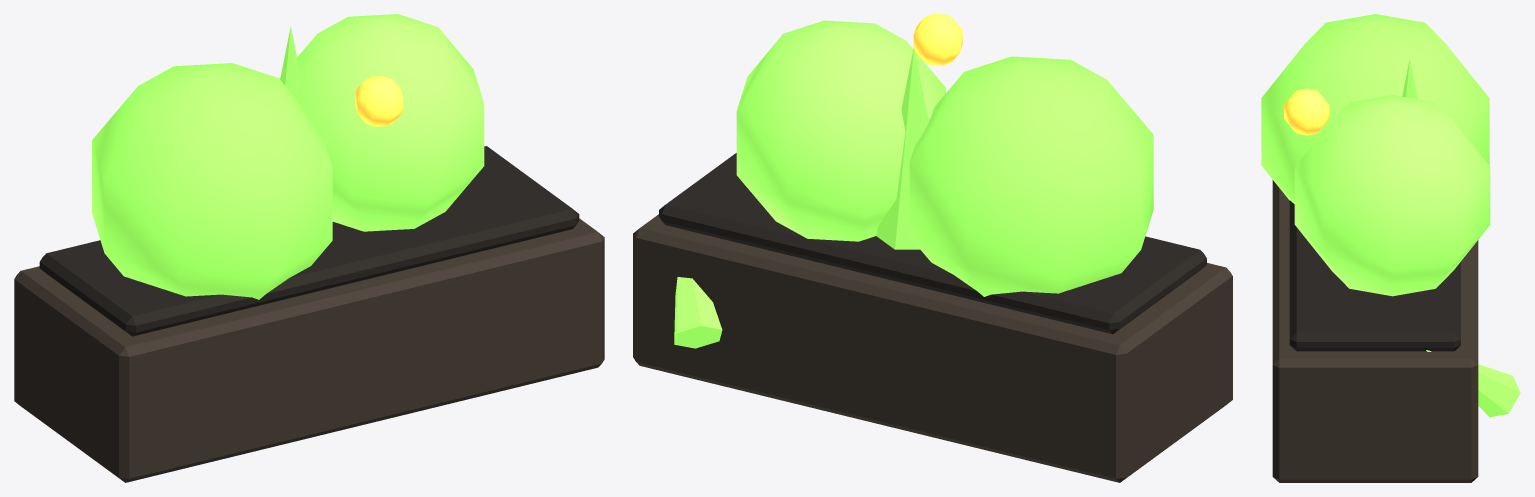
Rendered from vine_planter.glb.
3 views of the same model, side by side, from view 1: azimuth 30°, elevation 25°; view 2: azimuth 150°, elevation 25°; view 3: azimuth 270°, elevation 25° (orthographic). The views are drawn at different scales.
Visible parts, largest first — view 1: prop.vine_planter; view 2: prop.vine_planter; view 3: prop.vine_planter.
Boxes of the visible parts, x1=… form: prop.vine_planter: x1=14, y1=14, x2=604, y2=482; prop.vine_planter: x1=633, y1=14, x2=1232, y2=482; prop.vine_planter: x1=1261, y1=14, x2=1520, y2=482.
Bounding box in the file's own units: 1.32 × 0.9 × 0.6643.
